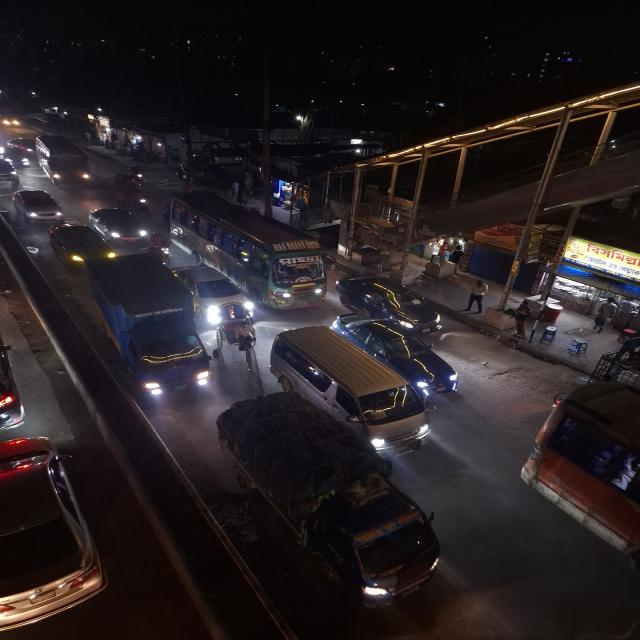bus: (521, 383, 640, 633), (161, 187, 332, 309), (35, 134, 94, 188)
car: (267, 324, 434, 457), (0, 429, 102, 636), (342, 317, 464, 396), (336, 272, 446, 332), (174, 263, 252, 321), (0, 325, 27, 440), (45, 224, 116, 266), (88, 206, 152, 247), (10, 188, 66, 225), (4, 136, 38, 168), (0, 157, 21, 190)
motorcycle: (148, 230, 175, 260), (126, 164, 149, 187)
pedestrian: (466, 278, 490, 314)
rickshaw: (212, 310, 262, 360), (346, 241, 389, 273)
truck: (217, 396, 449, 610), (79, 255, 209, 410)
